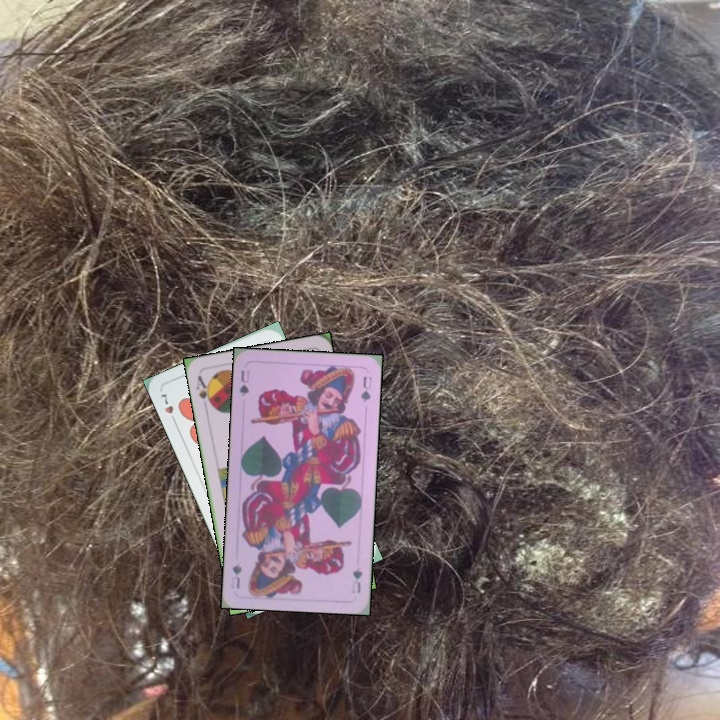GU: (347, 563, 365, 596), (236, 366, 252, 398)
H7: (156, 390, 180, 427)
SA: (192, 372, 216, 411)
